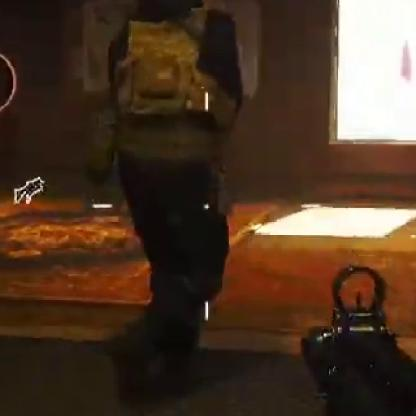enemy: (80, 1, 250, 392)
